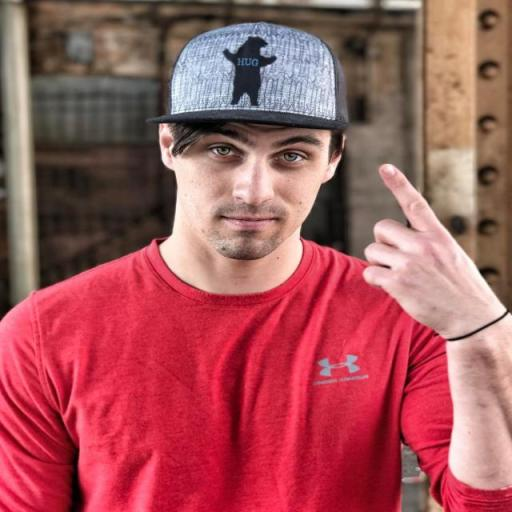Under Armour: (308, 350, 371, 386)
